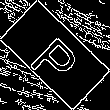P_NE: (24, 24, 86, 86)
